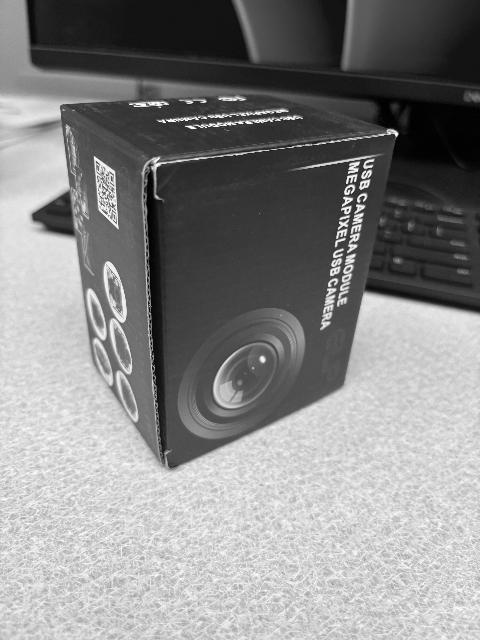CameraBox2: (59, 92, 398, 472)
